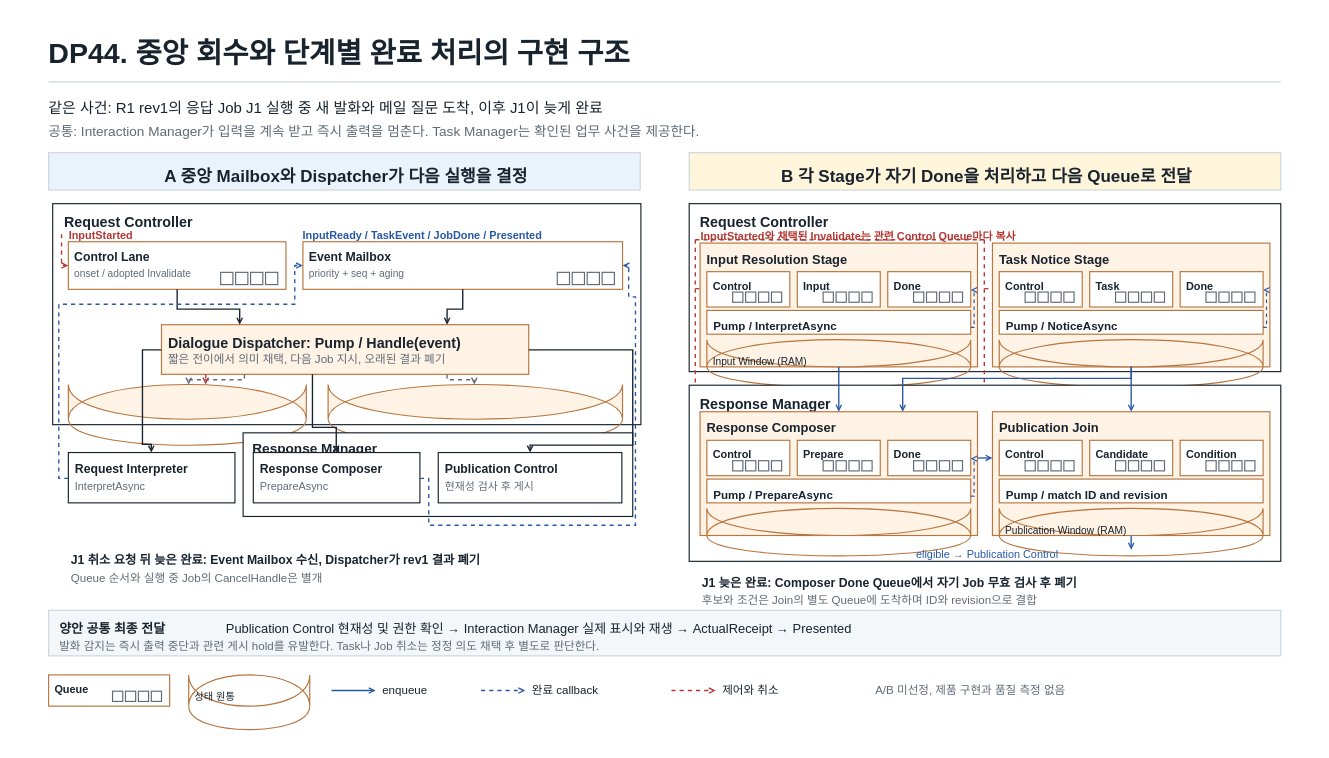
Some shapes in this 1329 by 758 pixel diagram are drawn without their labels. The centre of each missing label's shape, as x and y in pixels:
"Dialogue Progress State: 대기 ID / 후보 참조" goes at point 475,401.
"Job Index: revision / Future / CancelHandle" goes at point 187,401.
"Notice Window (RAM)" goes at point 1130,353.
"Prepare Job Index (RAM)" goes at point 838,521.
